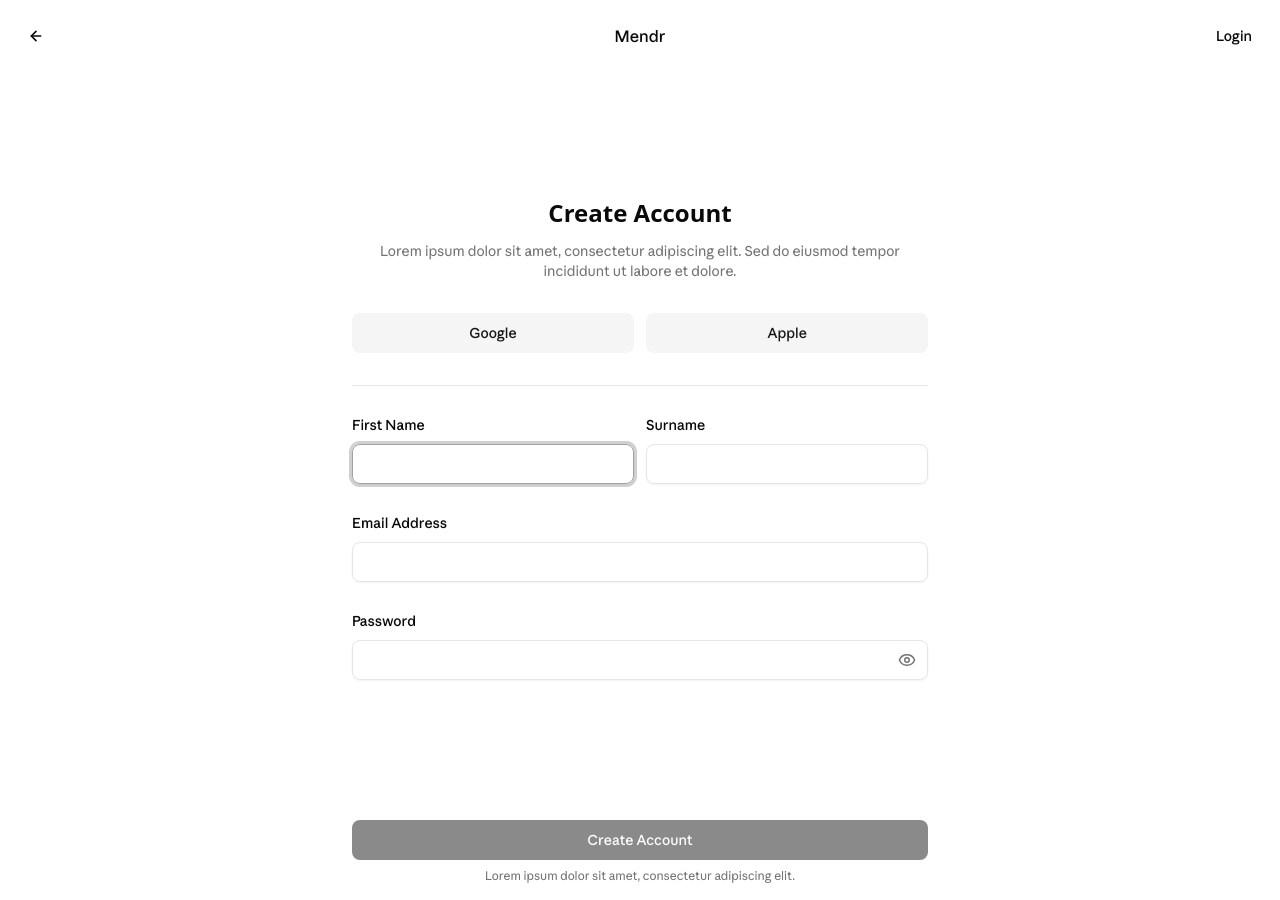
Scenario: auth/register/client.tsx › shows confirmation state after successful registration
Type "John" into the field labelled "First Name" at (493, 464), box [352,444,634,484]
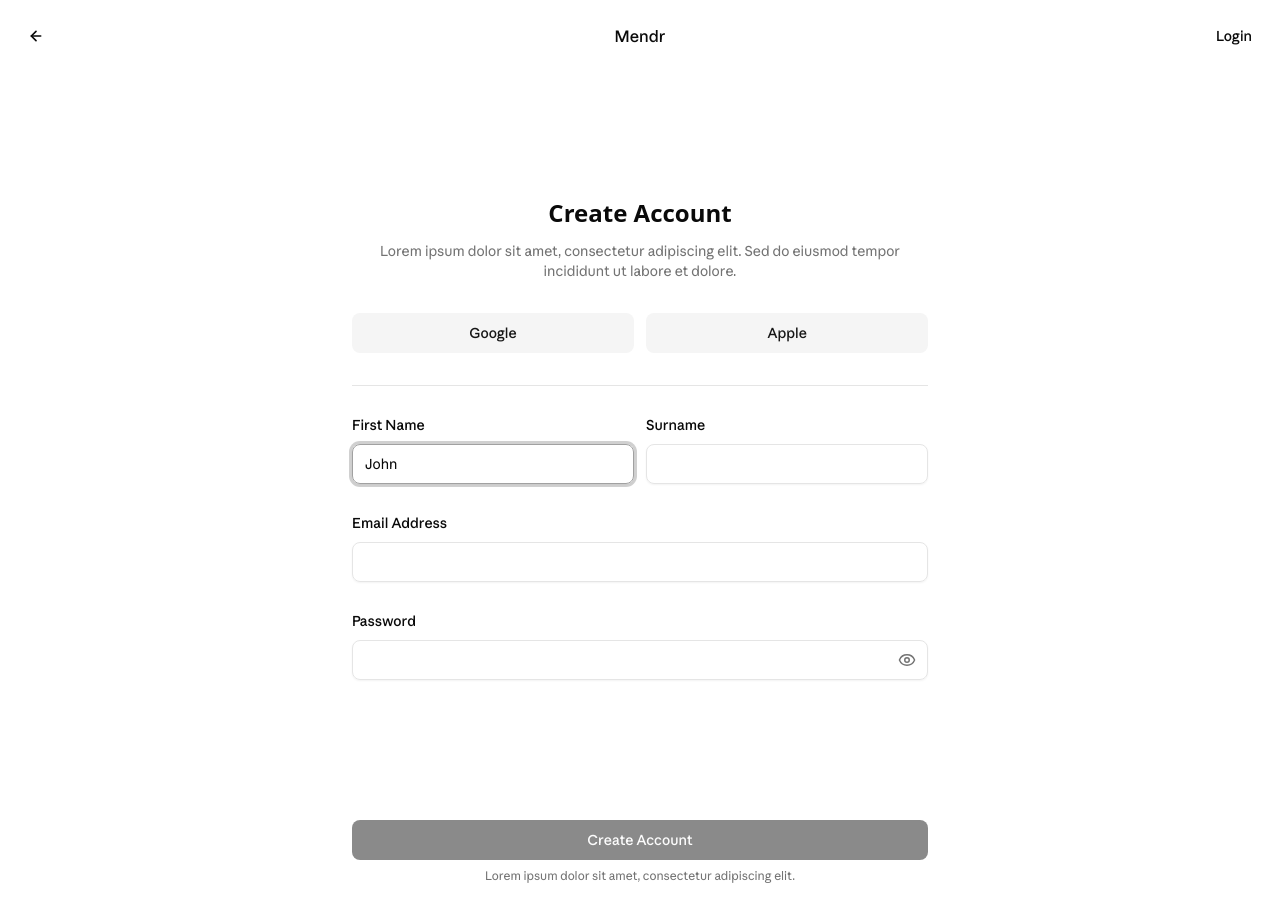
Type "Doe" into the field labelled "Surname" at (787, 464), box [646,444,928,484]
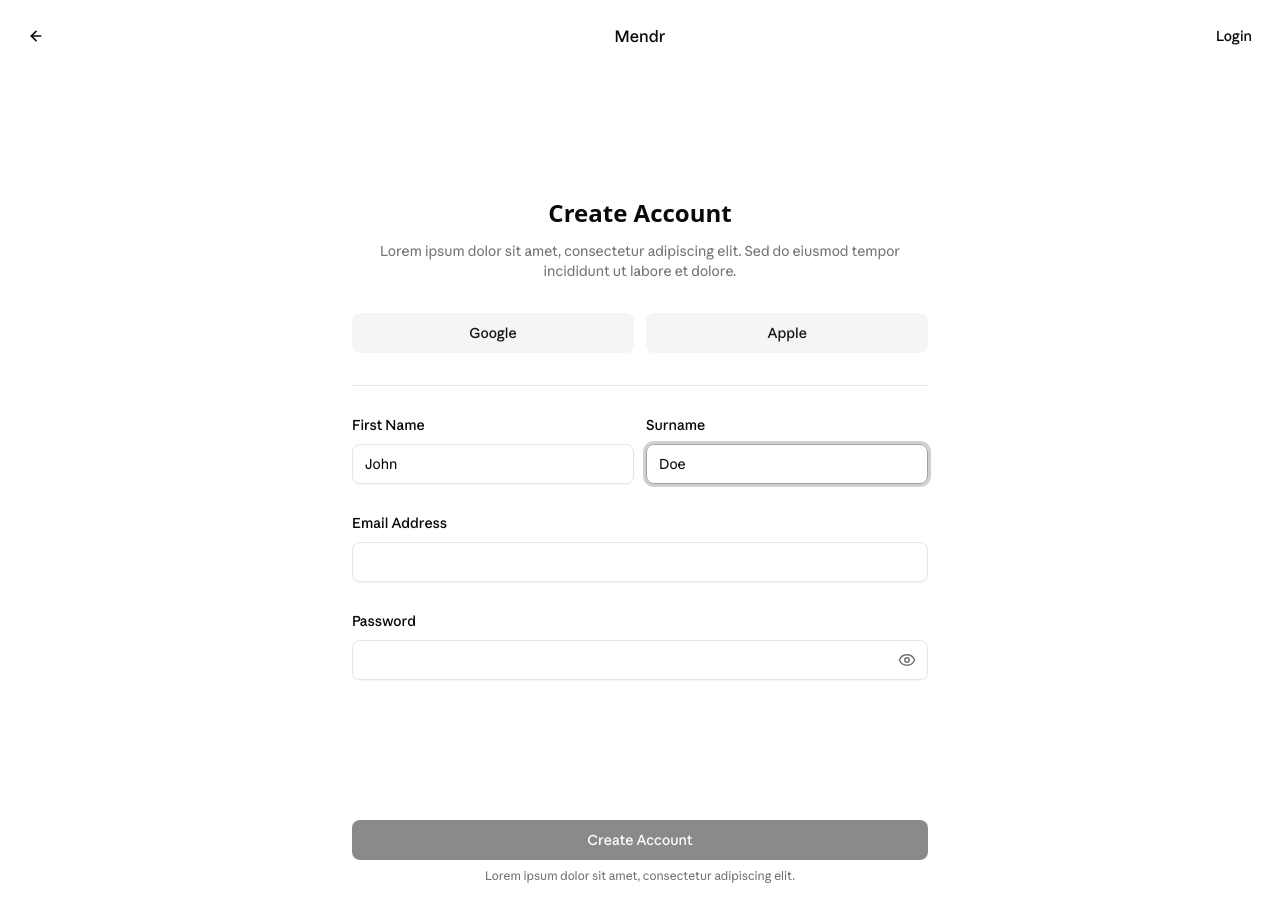
Type "john@example.com" into the field labelled "Email Address" at (640, 562), box [352,542,928,582]
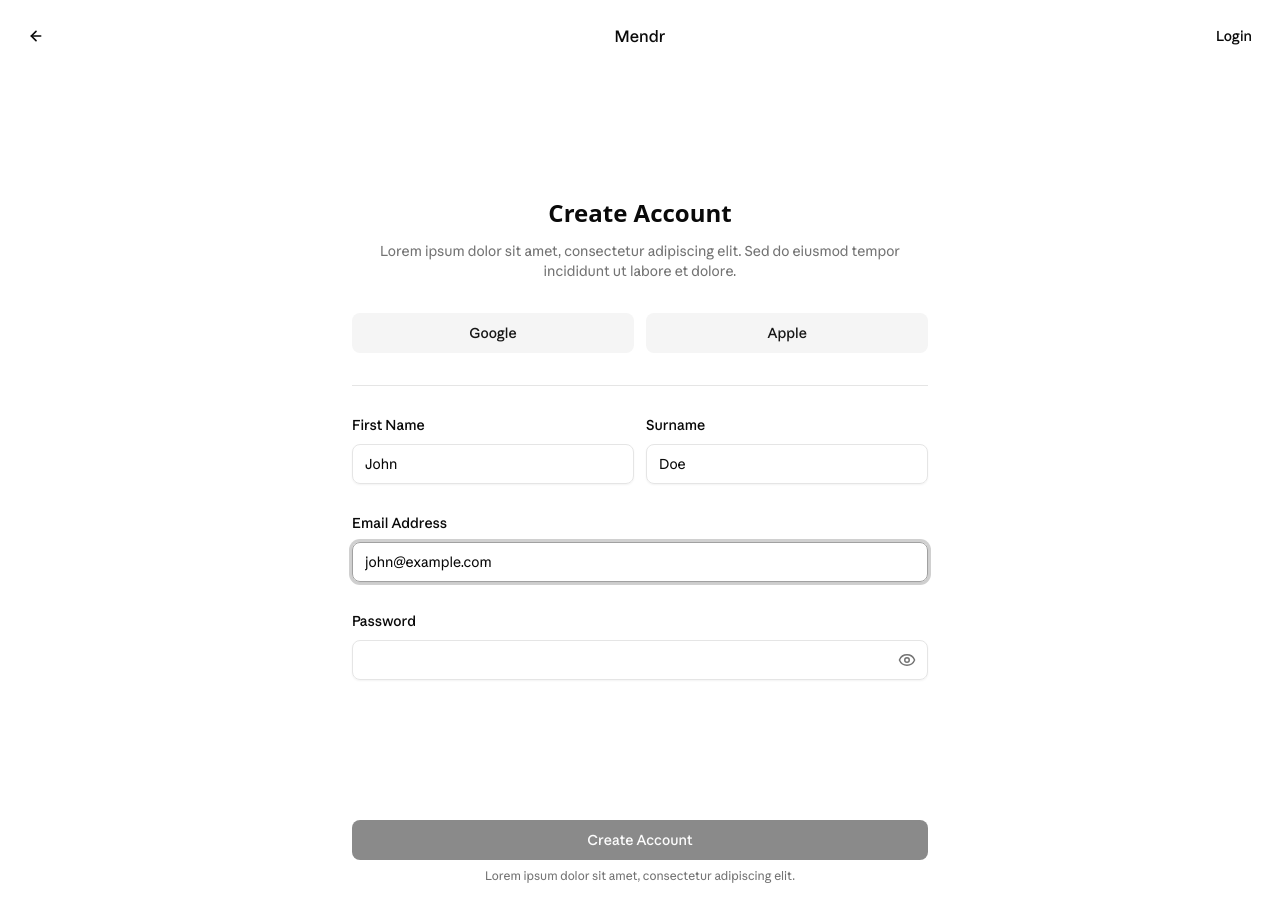
Type "securepassword" into the password field labelled "Password" at (640, 660), box [352,640,928,680]
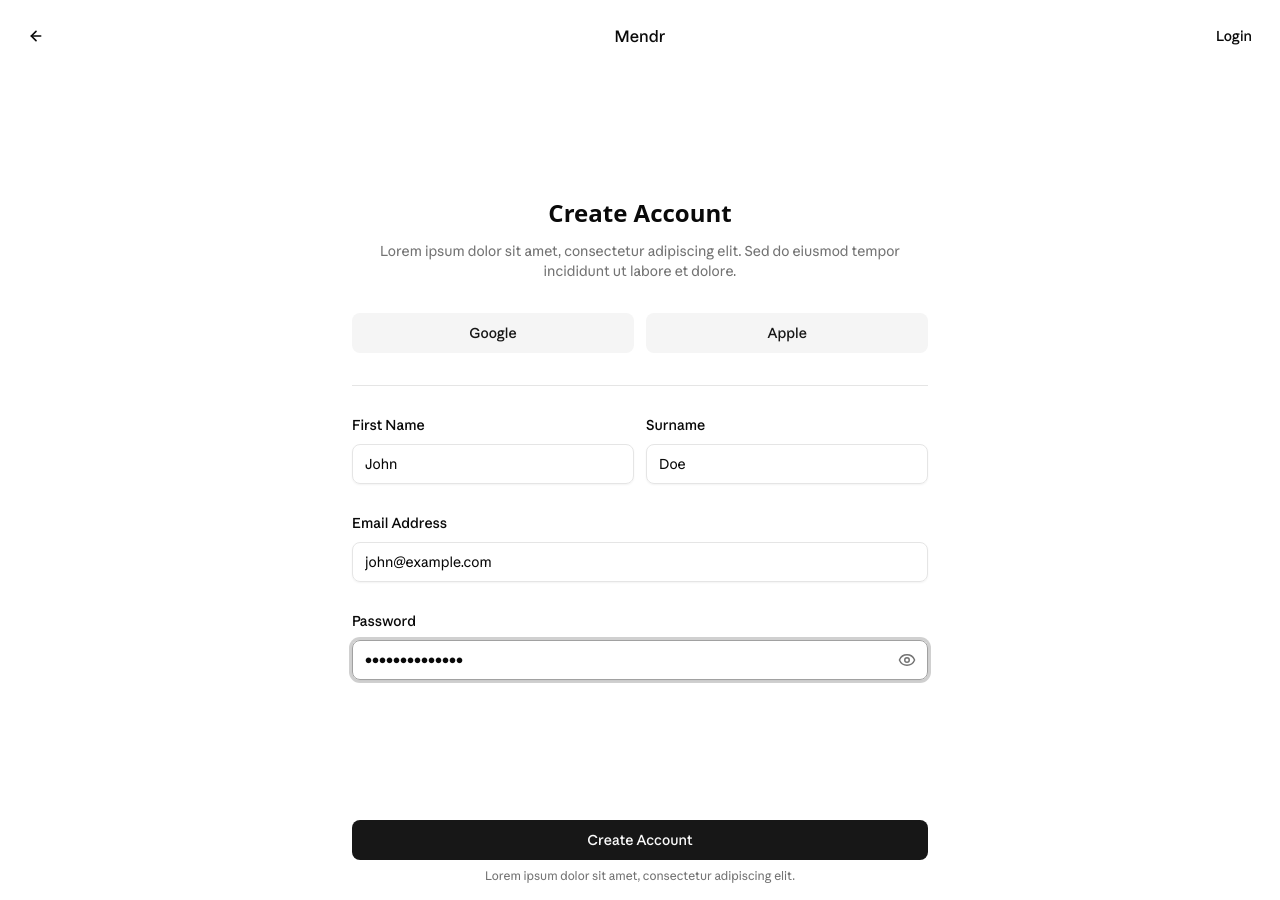
Click the button "Create Account" at (640, 840), box [352,820,928,860]
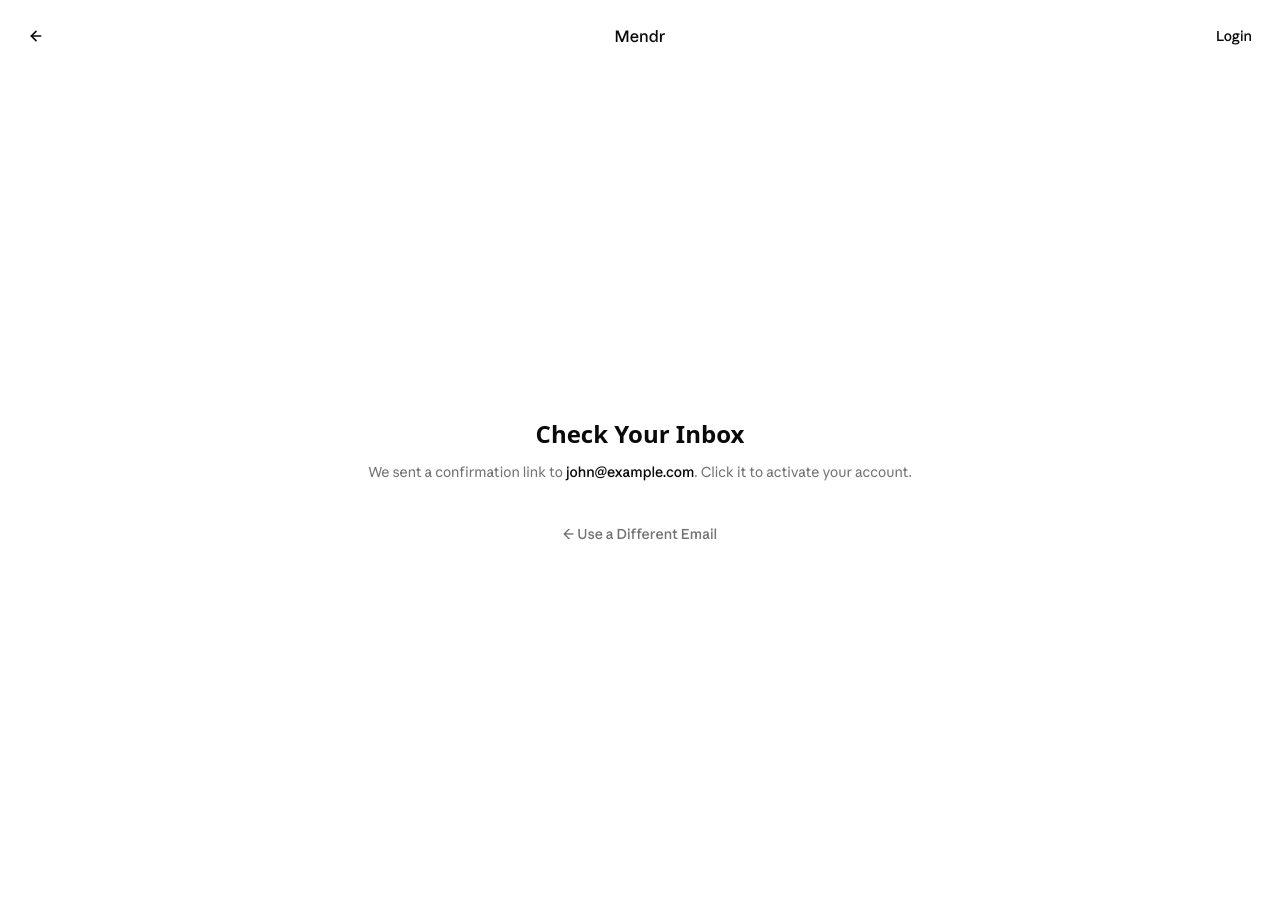
Now the heading "Check Your Inbox" is shown, box [536,418,744,450]
